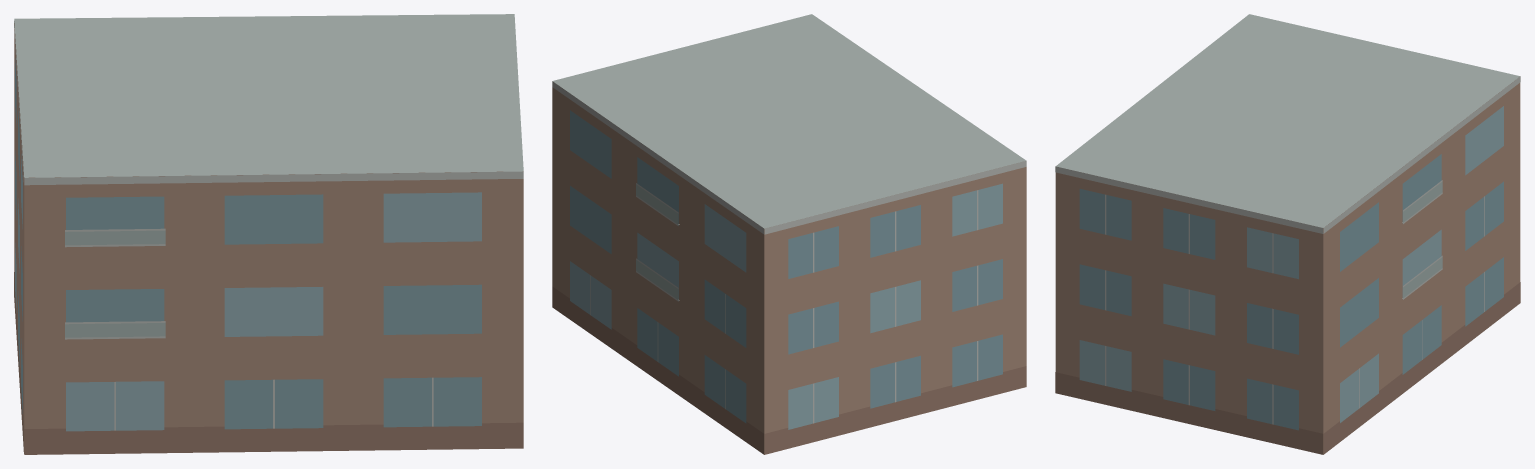
Rendered from survey-upis-32679222.glb.
3 renders of one model, left to right at view 1: azimuth 30°, elevation 25°; view 2: azimuth 150°, elevation 25°; view 3: azimuth 270°, elevation 25°, orthographic. The views are drawn at different scales.
Parts seen in each view (by area): view 1: survey-upis-32679222.tmp; view 2: survey-upis-32679222.tmp; view 3: survey-upis-32679222.tmp.
Part boxes in pixels (bbox=[...]): survey-upis-32679222.tmp: bbox=[14, 14, 523, 454]; survey-upis-32679222.tmp: bbox=[552, 14, 1026, 454]; survey-upis-32679222.tmp: bbox=[1055, 14, 1520, 454].
Size of the model in its own units: 18.53 by 9.15 by 17.01.
